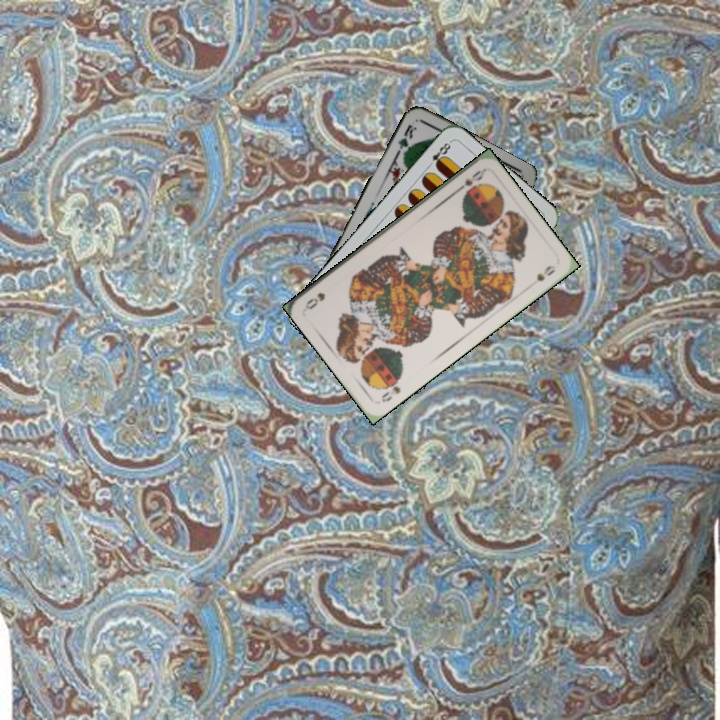E8: (423, 137, 454, 171)
GK: (393, 120, 419, 159)
SO: (451, 166, 487, 196), (377, 373, 404, 405)
